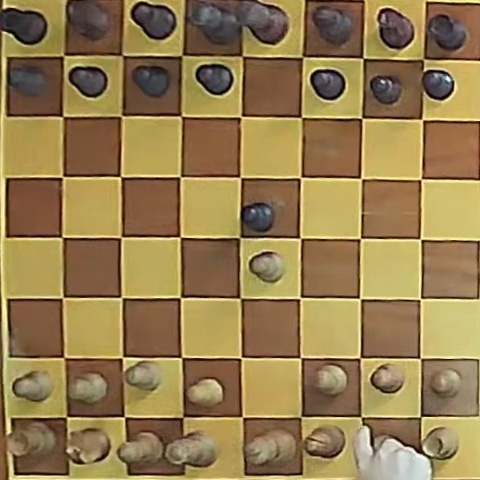black-bishop: (131, 2, 176, 40), (311, 6, 353, 46)
black-king: (235, 1, 288, 44)
black-knight: (68, 1, 110, 41), (377, 8, 414, 49)
black-pawn: (8, 64, 48, 96), (132, 65, 171, 97), (69, 66, 108, 97), (195, 64, 232, 94), (310, 69, 345, 100), (422, 69, 454, 100), (242, 202, 274, 232), (370, 75, 402, 104)
black-queen: (188, 2, 241, 44)
black-rook: (0, 7, 47, 46), (426, 13, 467, 51)
white-bishop: (118, 431, 164, 465), (305, 425, 345, 457)
white-king: (245, 429, 297, 465)
white-knight: (66, 427, 111, 463)
white-pawn: (68, 371, 108, 404), (12, 370, 53, 402), (125, 361, 161, 391), (186, 378, 223, 407), (314, 364, 347, 395), (250, 252, 284, 282), (371, 364, 405, 393), (429, 368, 461, 397)
white-queen: (164, 430, 218, 467)
white-rook: (7, 423, 54, 457), (422, 426, 459, 459)
